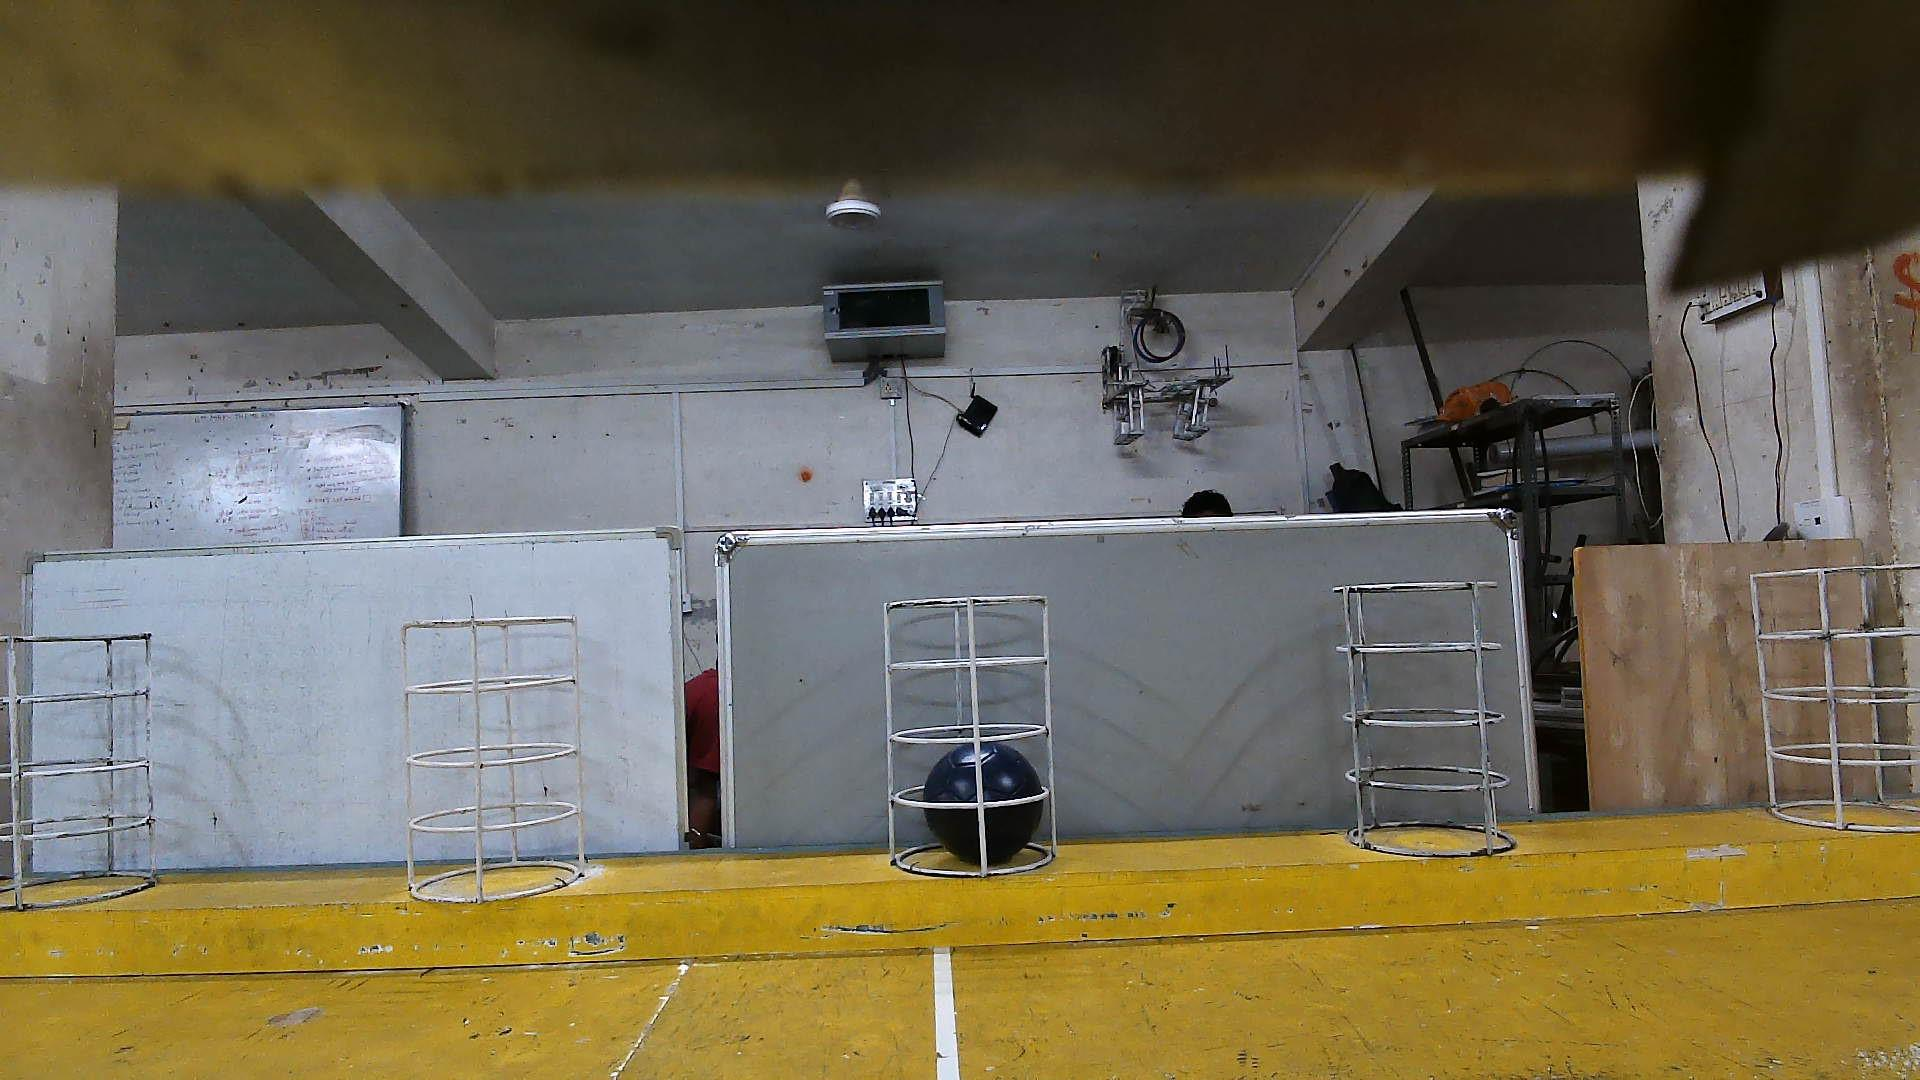dhoka: (923, 740, 1043, 865)
